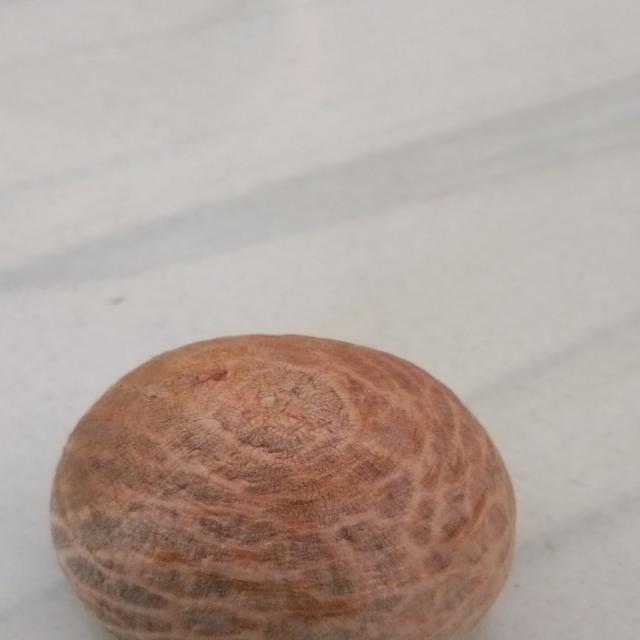good: (46, 318, 528, 640)
